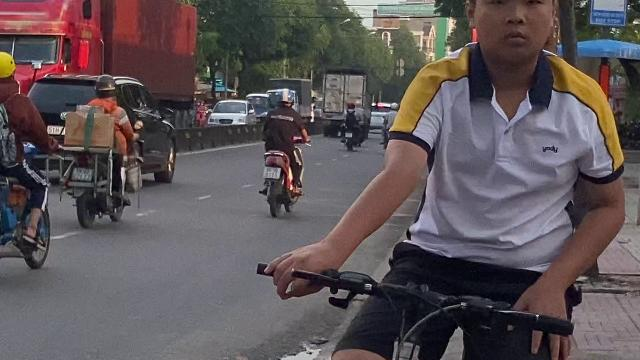helmet: (92, 74, 118, 100), (276, 88, 296, 108)
licenseplate: (72, 167, 92, 181), (263, 166, 279, 178)
motorcyclist: (57, 72, 137, 228), (256, 88, 306, 216)
